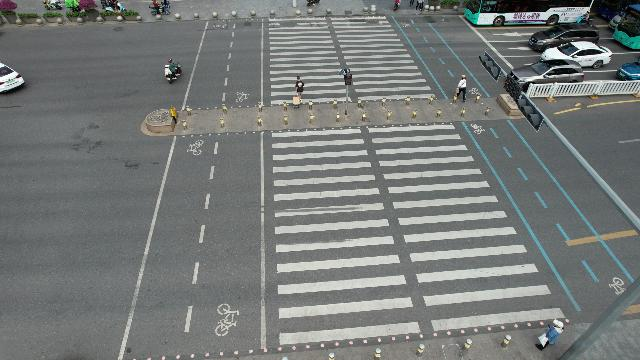non-motor-vehicle: (164, 57, 182, 85), (149, 1, 171, 16), (458, 74, 467, 102), (106, 0, 126, 12), (42, 1, 64, 11), (416, 0, 422, 10)
person: (546, 318, 564, 348), (296, 76, 304, 102), (392, 1, 400, 10), (410, 0, 414, 6)
